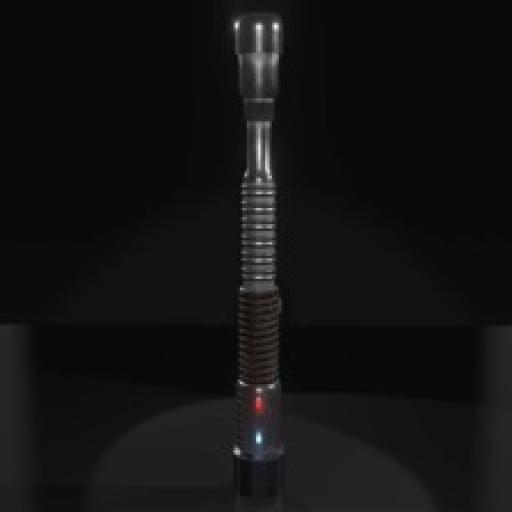lightsaber: (217, 12, 300, 512)
